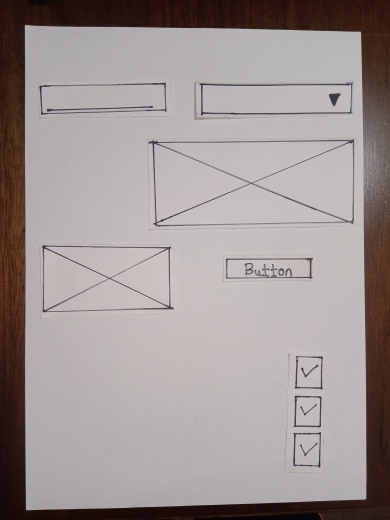button: (225, 256, 314, 278)
checkbox: (299, 358, 326, 386), (294, 436, 318, 465), (297, 398, 323, 423)
dropdown: (199, 87, 351, 119)
img: (156, 140, 354, 226), (43, 246, 169, 312)
text: (43, 84, 164, 114)
